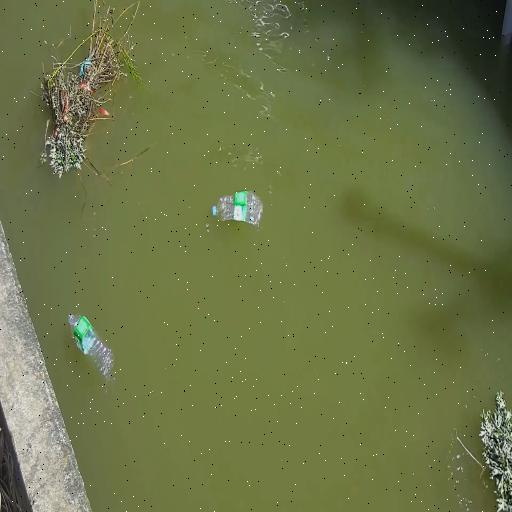plastic: (68, 315, 112, 380), (212, 191, 262, 227), (212, 206, 215, 216)
twig: (40, 9, 142, 178), (480, 392, 512, 512)
